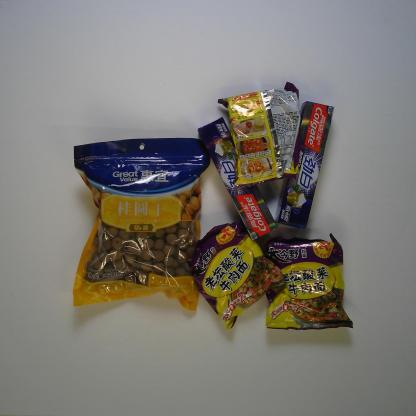Dried Food: (70, 136, 212, 314)
Instant Noodles: (188, 220, 286, 330), (261, 229, 356, 332), (219, 80, 302, 189)
Personal Hygiene: (196, 117, 278, 242), (276, 101, 335, 232)
